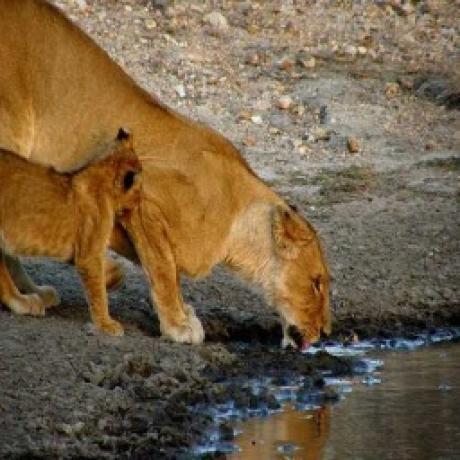Lion: (0, 0, 334, 355), (0, 128, 144, 338)
